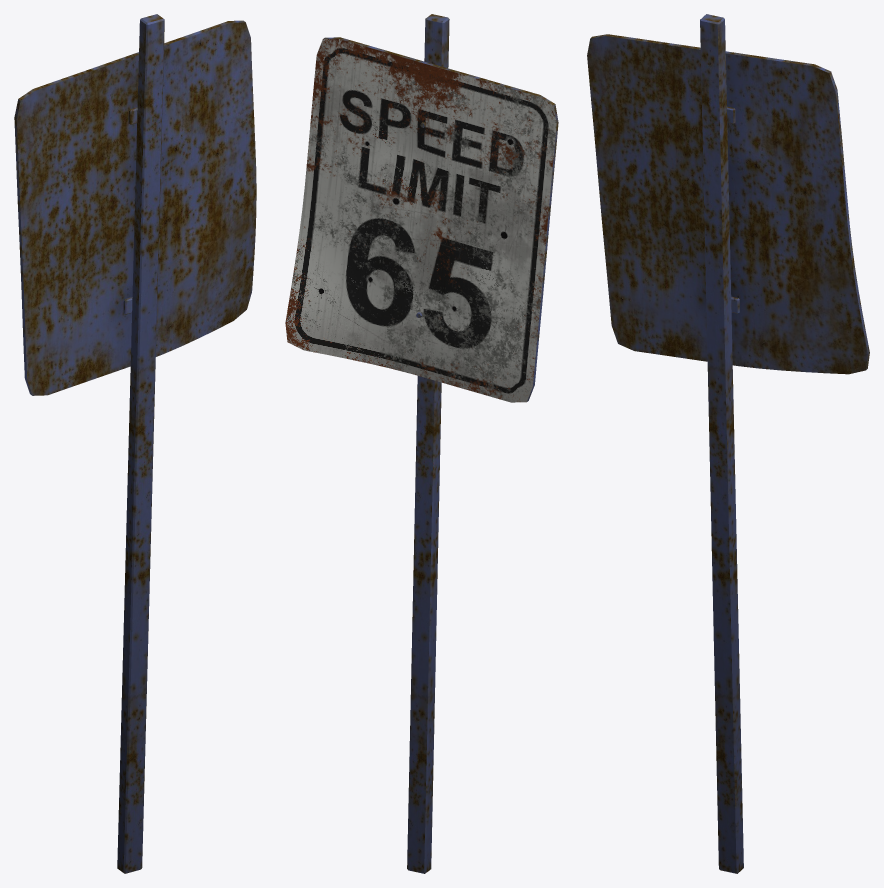
File: sign_speed.glb
3 renders of one model, left to right at view 1: azimuth 30°, elevation 25°; view 2: azimuth 150°, elevation 25°; view 3: azimuth 330°, elevation 25°, orthographic. The views are drawn at different scales.
Parts seen in each view (by area): view 1: sign_speed_galvanized; view 2: sign_speed_sign_speed, sign_speed_galvanized; view 3: sign_speed_galvanized.
Boxes of the visible parts, x1,y1,x2,y2 form: sign_speed_galvanized: (14,14,256,873); sign_speed_sign_speed: (285,38,556,402); sign_speed_galvanized: (323,14,558,873); sign_speed_galvanized: (587,14,869,873).
Bounding box in the file's own units: 0.8103 × 2.6 × 0.1923.
2 materials, 2 textured.
